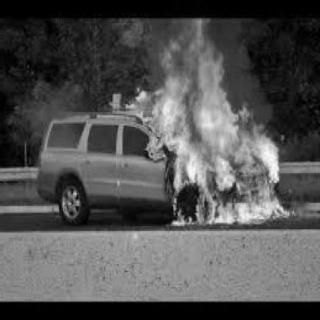Fire: (119, 24, 305, 236)
